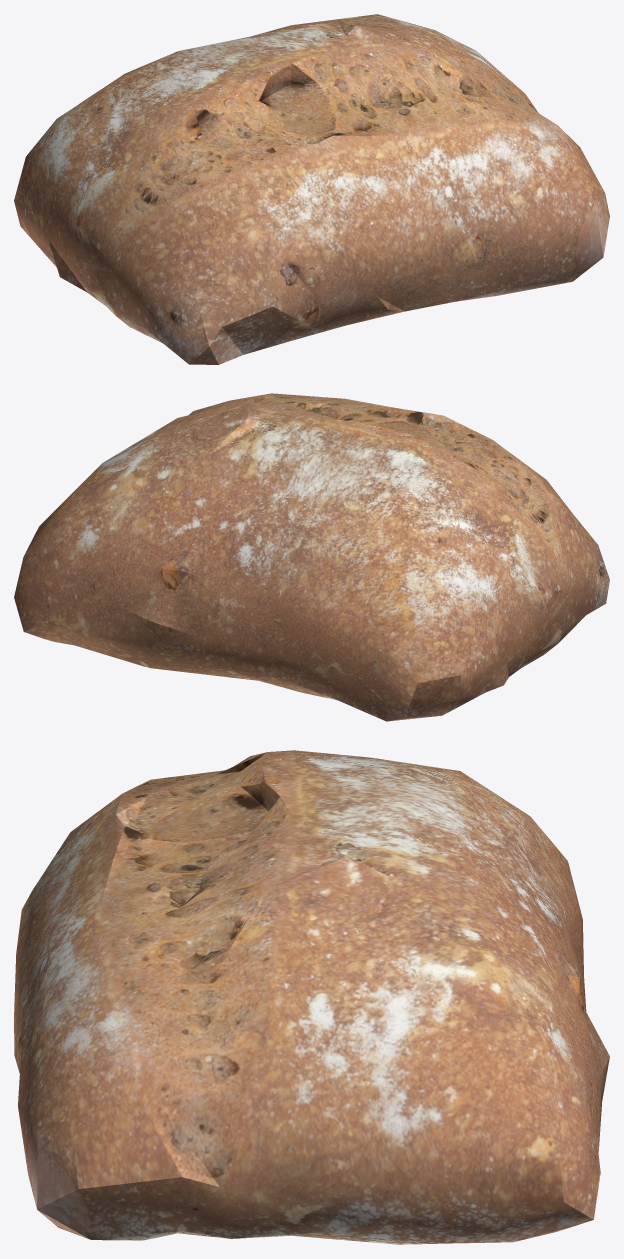
File: 3DBread009_LQ-1K-JPG.obj
3 views of the same model, one above another, from view 1: azimuth 30°, elevation 25°; view 2: azimuth 150°, elevation 25°; view 3: azimuth 270°, elevation 25° (orthographic). The views are drawn at different scales.
Parts seen in each view (by area): view 1: 3DBread009_LQ-1K-JPG; view 2: 3DBread009_LQ-1K-JPG; view 3: 3DBread009_LQ-1K-JPG.
Part boxes in pixels (box(x1,y1,x2,y2)): 3DBread009_LQ-1K-JPG: box(14, 14, 609, 364); 3DBread009_LQ-1K-JPG: box(14, 393, 609, 721); 3DBread009_LQ-1K-JPG: box(14, 750, 609, 1244).
Bounding box in the file's own units: 0.1469 × 0.0644 × 0.1163.
Materials: 1 (1 with a texture image).
